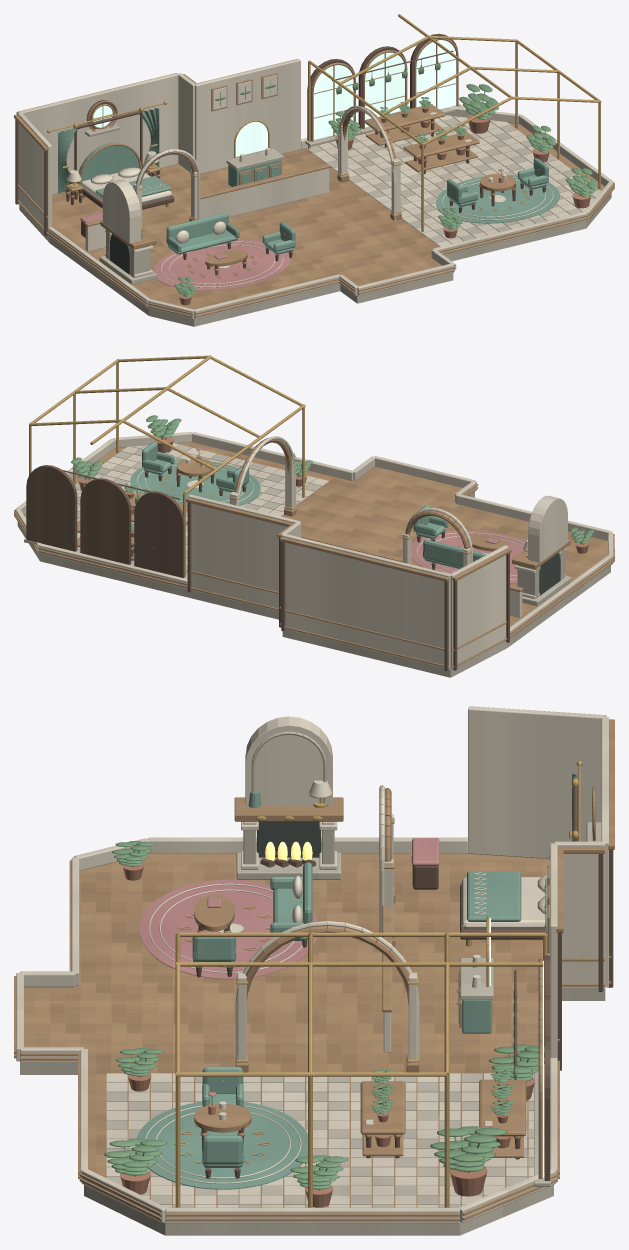
The model's file is neighbor3-interior.glb.
3 renders of one model, top to bottom at view 1: azimuth 30°, elevation 25°; view 2: azimuth 150°, elevation 25°; view 3: azimuth 270°, elevation 25°, orthographic. The views are drawn at different scales.
Parts seen in each view (by area): view 1: Forest hamlet; view 2: Forest hamlet; view 3: Forest hamlet.
Part boxes in pixels (x1,y1,x2,y2): Forest hamlet: [14, 14, 614, 326]; Forest hamlet: [14, 355, 614, 677]; Forest hamlet: [14, 706, 614, 1235].
Size of the model in its own units: 20.87 by 5.1 by 14.07.
17 materials, 17 textured.
